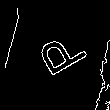P_SW: (24, 26, 86, 84)
